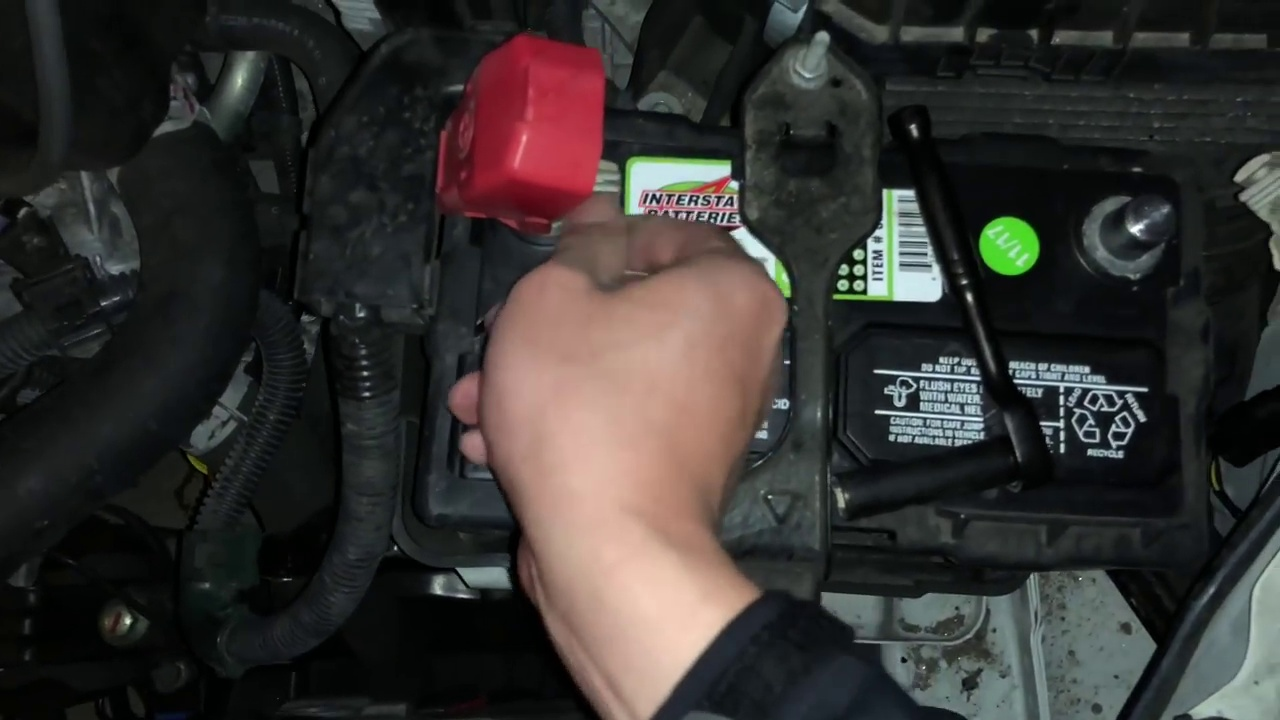battery: (442, 94, 1196, 540)
neg_disconnected: (1071, 175, 1190, 298)
pos_touched: (431, 65, 735, 345)
